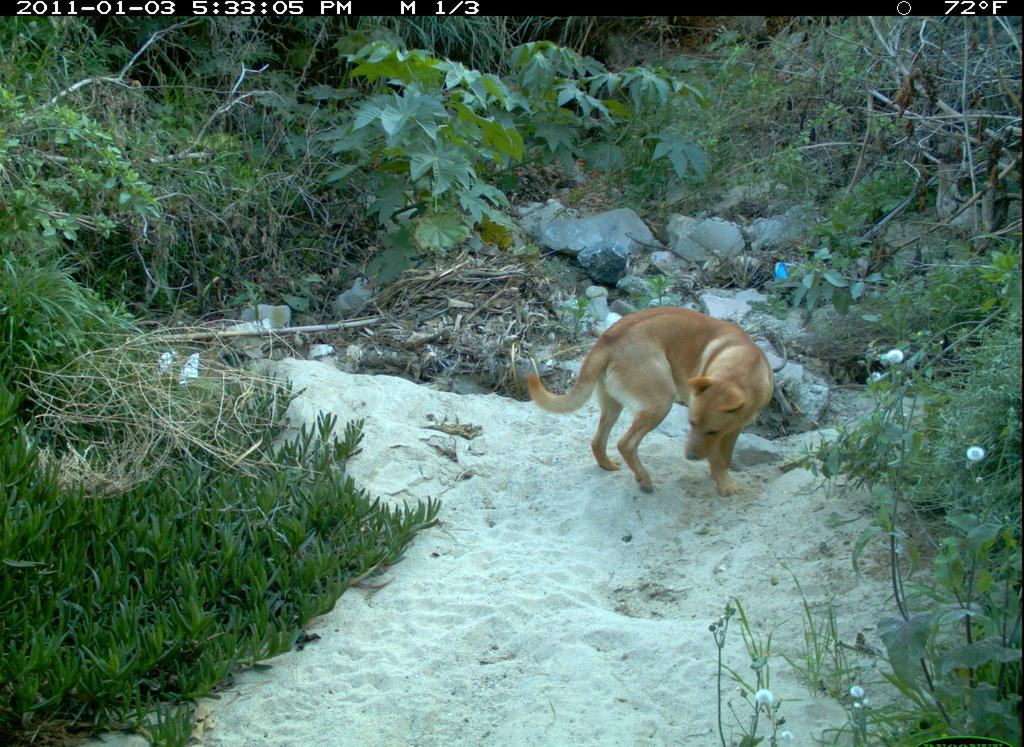dog: (519, 297, 780, 509)
